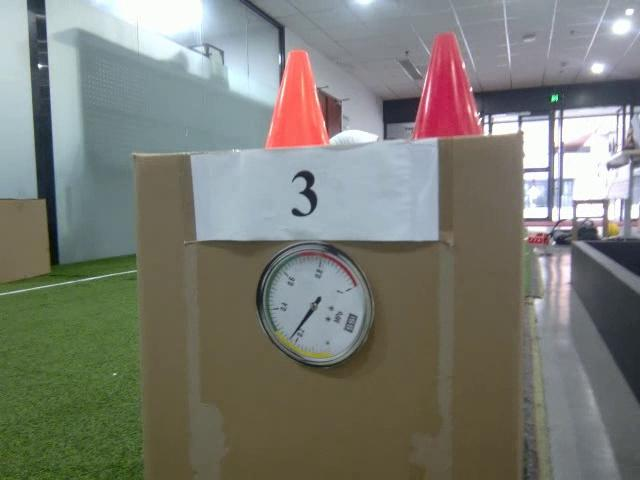3: (286, 164, 319, 222)
Dashboard: (256, 241, 373, 369)
orange_barrel: (263, 47, 334, 148)
red_barrel: (407, 31, 490, 140)
ssi: (343, 311, 358, 334)
